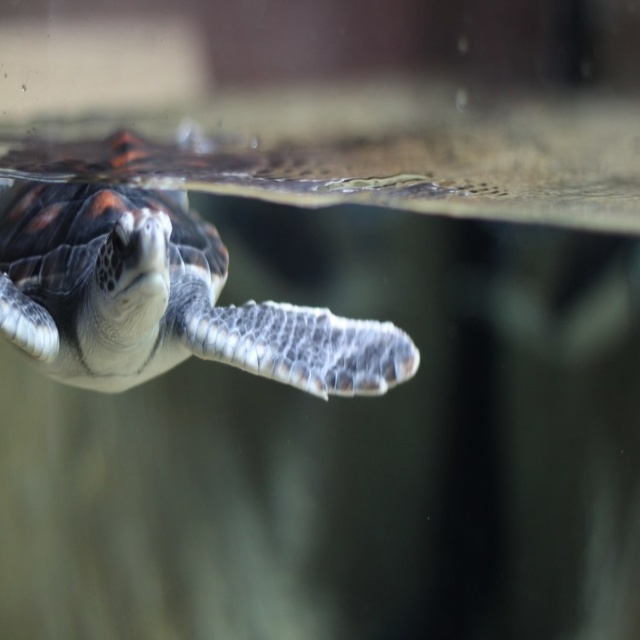Sea turtle: (0, 167, 423, 408)
